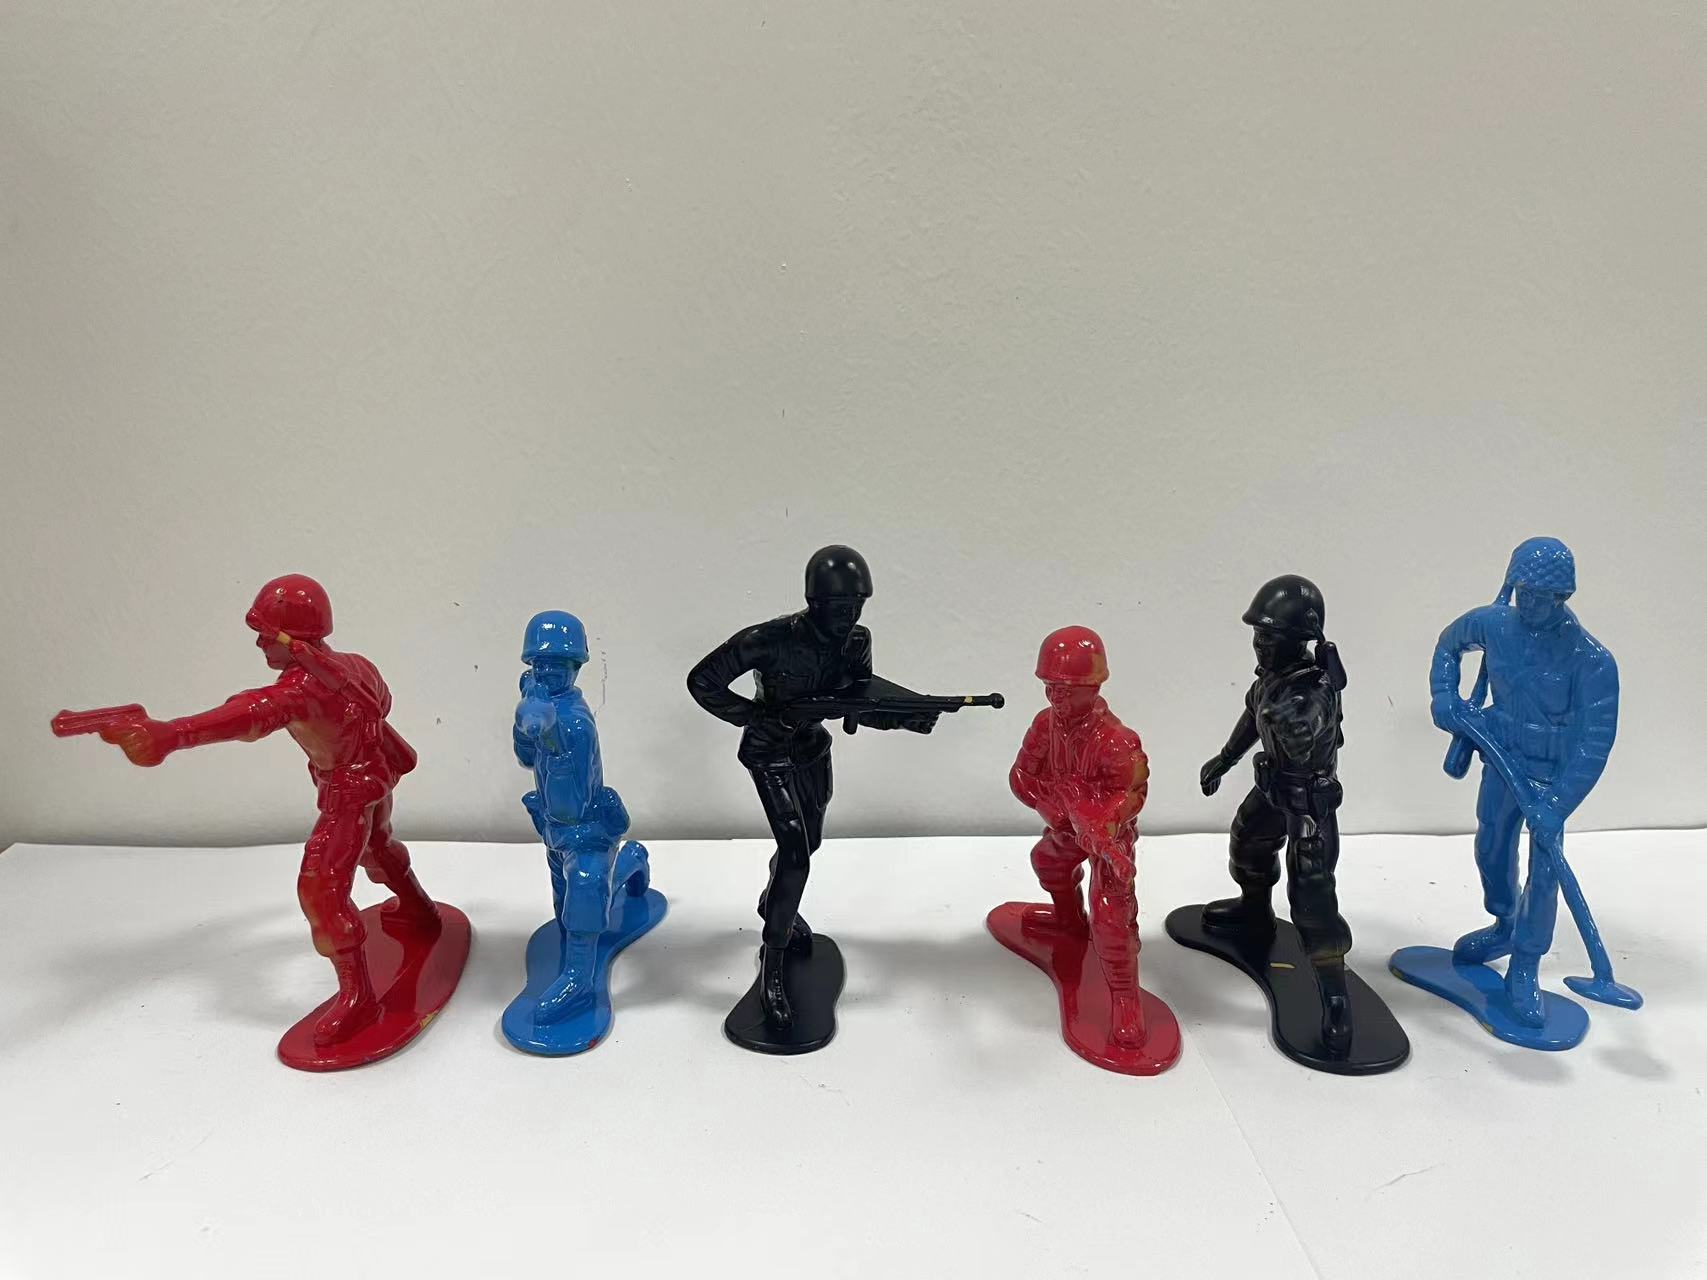black: (664, 507, 988, 1152), (1164, 553, 1427, 1131)
blue: (1415, 484, 1677, 1125), (469, 575, 700, 1140)
red: (40, 549, 466, 1133), (995, 609, 1185, 1143)
